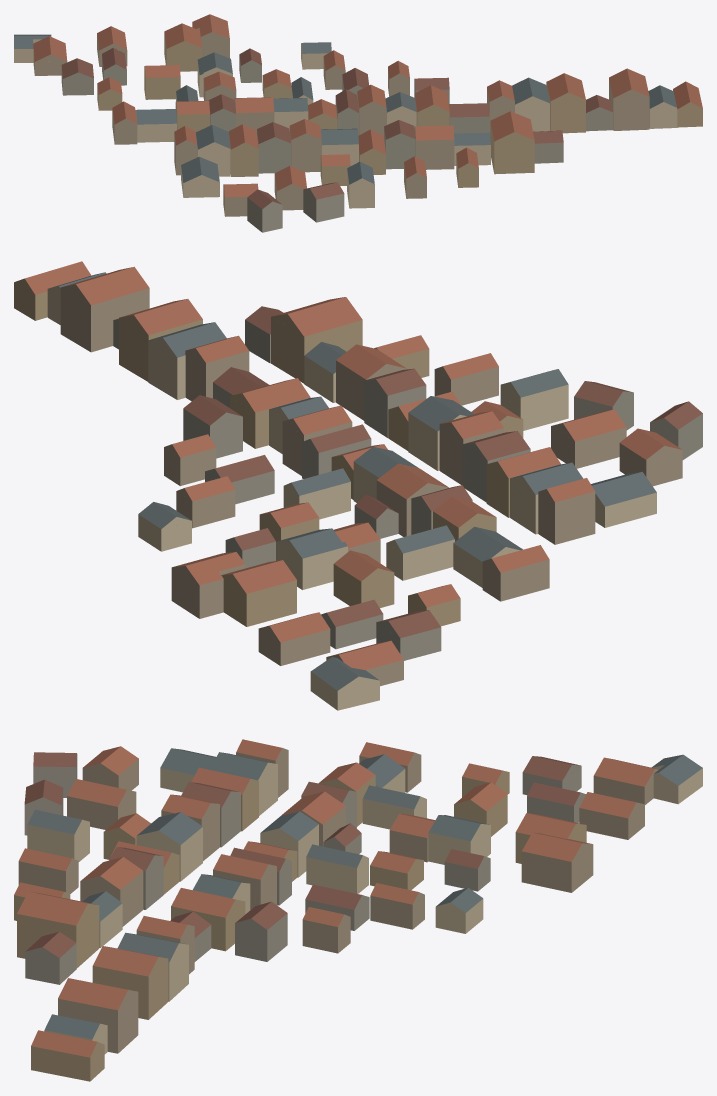
The picture shows the model from 3 angles, top to bottom: view 1: azimuth 30°, elevation 25°; view 2: azimuth 150°, elevation 25°; view 3: azimuth 270°, elevation 25°; orthographic projection. The views are drawn at different scales.
Visible parts, largest first — view 1: C_4_3; view 2: C_4_3; view 3: C_4_3.
Part boxes in pixels (box(x1,y1,x2,y2)): C_4_3: box(14, 14, 702, 232); C_4_3: box(14, 261, 702, 710); C_4_3: box(14, 739, 702, 1081).
Bounding box in the file's own units: 176 × 14.52 × 164.
